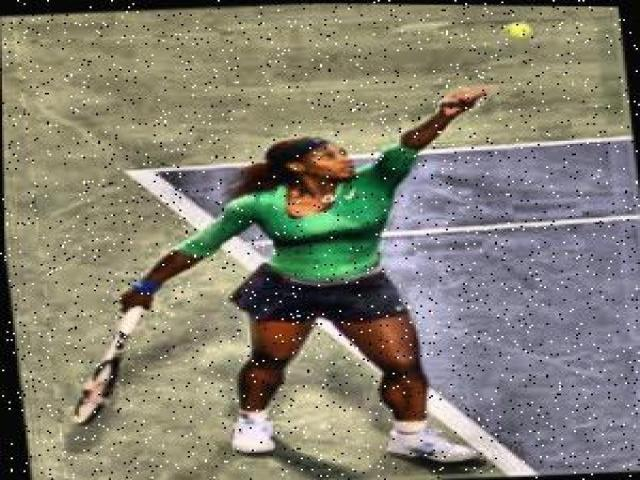tennis-ball: (505, 20, 531, 37)
